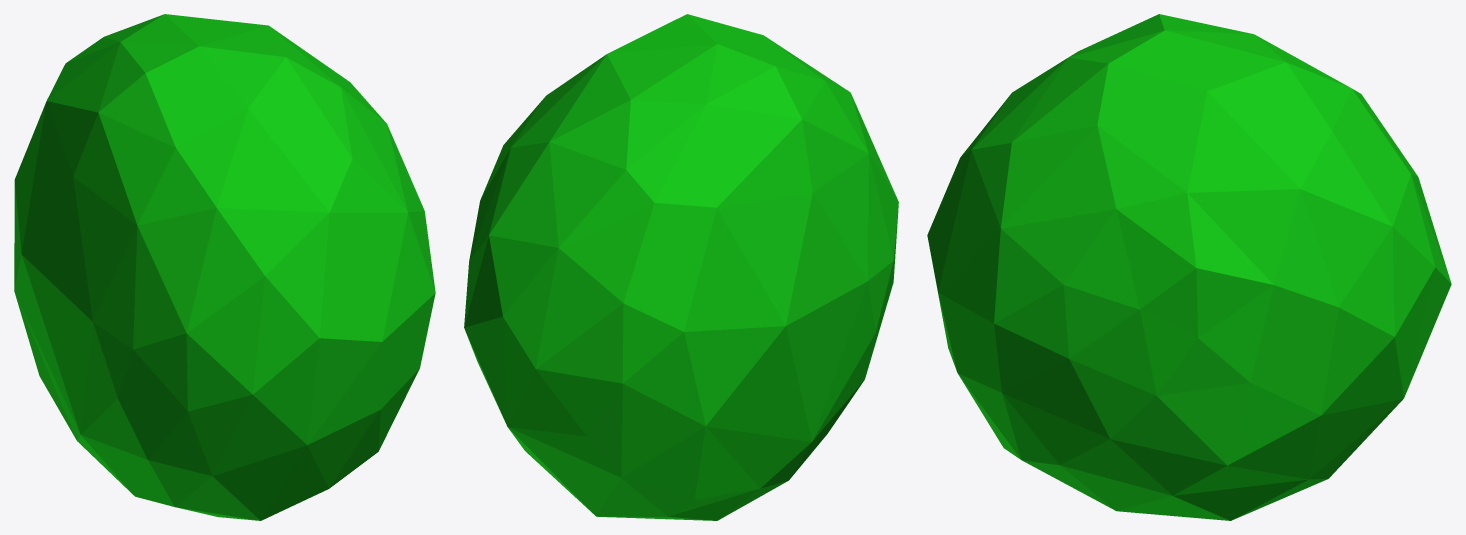
File: bush_001.fbx
3 views of the same model, side by side, from view 1: azimuth 30°, elevation 25°; view 2: azimuth 150°, elevation 25°; view 3: azimuth 270°, elevation 25° (orthographic).
Visible parts, largest first — view 1: bush.001; view 2: bush.001; view 3: bush.001.
Part boxes in pixels (left/top/right/bottom): bush.001: left=14, top=14, right=435, bottom=520; bush.001: left=464, top=14, right=898, bottom=520; bush.001: left=927, top=14, right=1451, bottom=520.
Size of the model in its own units: 160 by 213 by 219.
